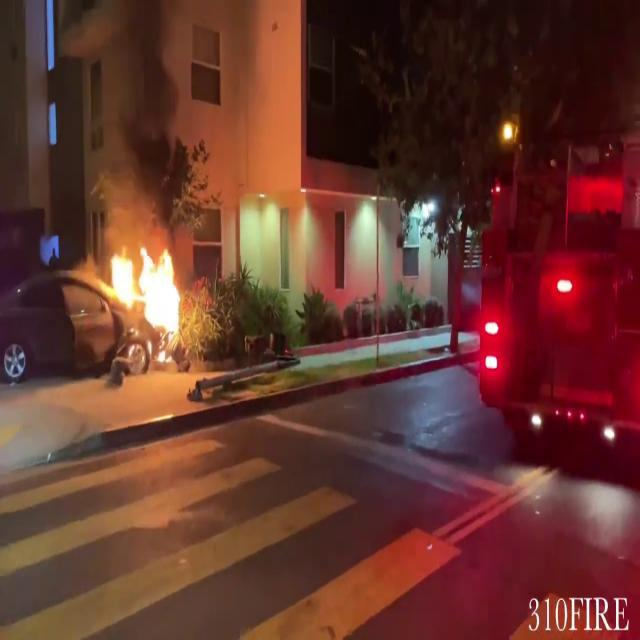Fire: (101, 233, 193, 362)
Smoke: (80, 1, 202, 222)
